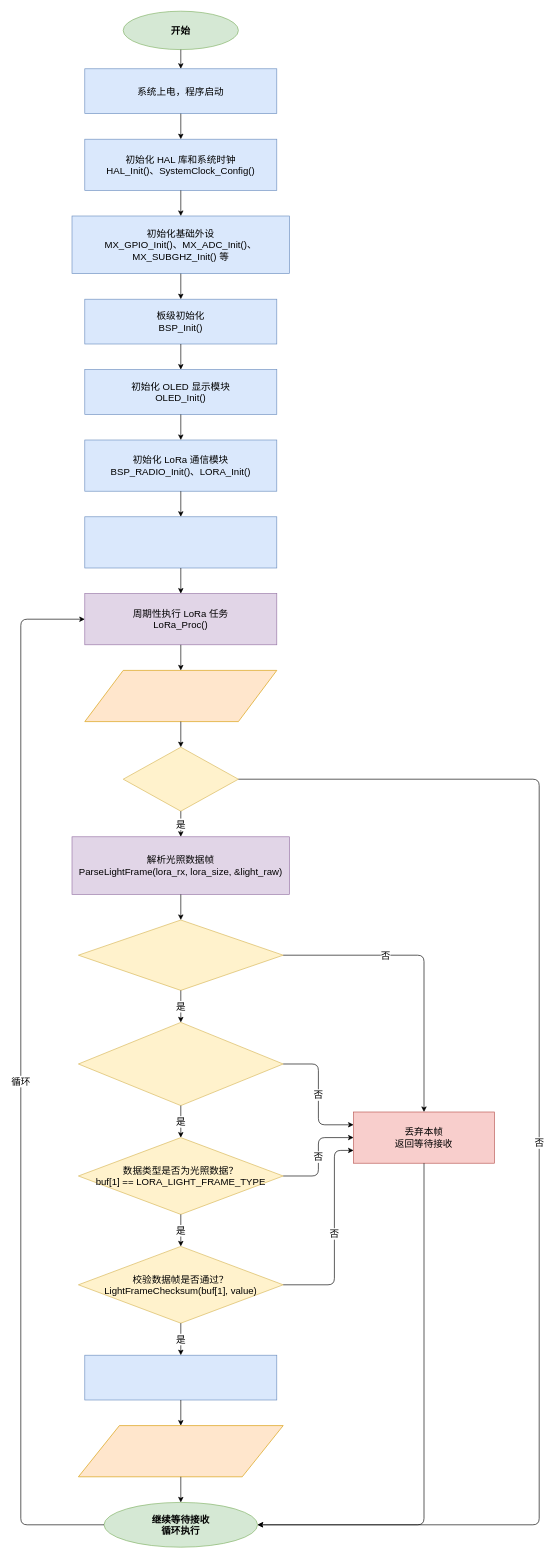
The diagram is 556 pixels wide and 1558 high, and some of its shapes have lost their labels. Here are the shapes that lost their labels. From the top down, the centre of each, then its label:
At (x=180, y=542): "进入 LoRa 接收状态 State = STATE_LORA_RX".
At (x=180, y=696): "接收 LoRa 数据 LORA_Rx(lora_rx, &lora_size)".
At (x=180, y=779): "是否接收到数据？".
At (x=180, y=954): "数据长度是否正确？ size == LORA_LIGHT_FRAME_SIZE".
At (x=180, y=1064): "帧头和帧尾是否正确？ buf[0] == 0xAA buf[5] == 0x55".
At (x=180, y=1377): "解析光照 ADC 值 *light_raw = value".
At (x=180, y=1451): "OLED 显示接收到的光照值 OLED_Proc()、FormatLightString()".
